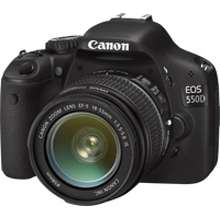kamera: (1, 10, 220, 207)
